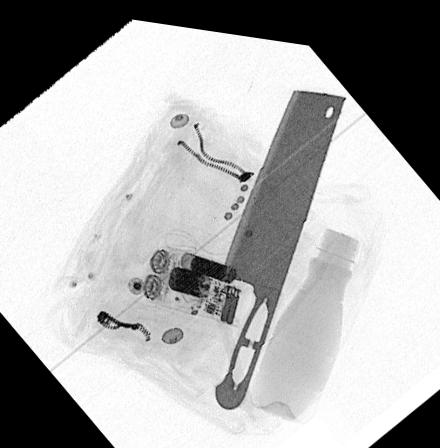Knife: (210, 77, 346, 403)
